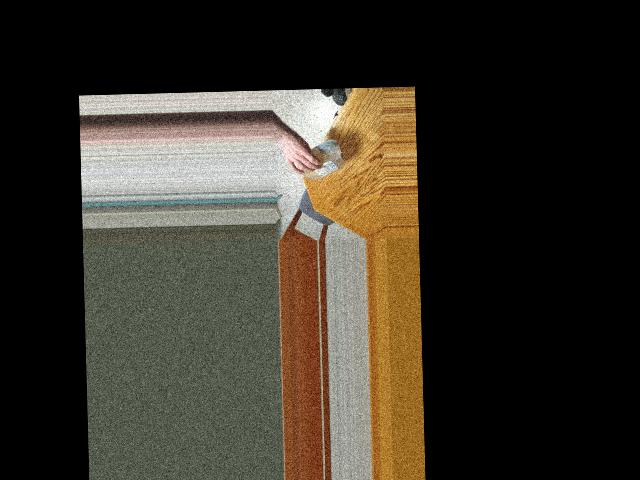cheese: (300, 143, 341, 174)
